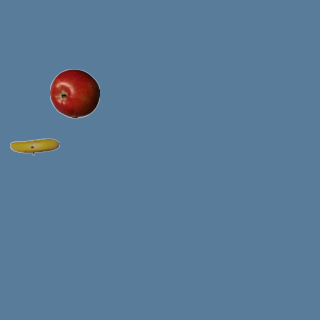Apple Braeburn: (49, 68, 99, 118)
Banana: (9, 121, 59, 171)
